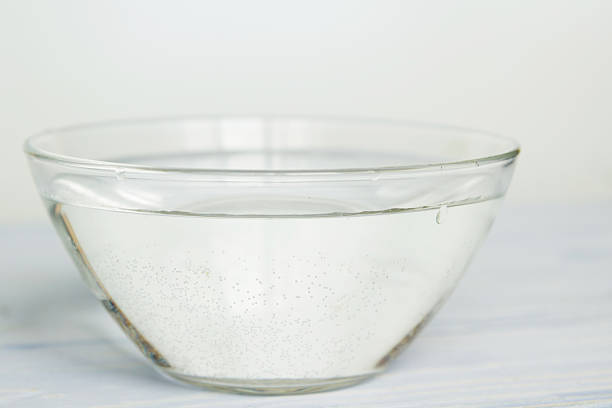Bowl: (17, 94, 558, 401)
